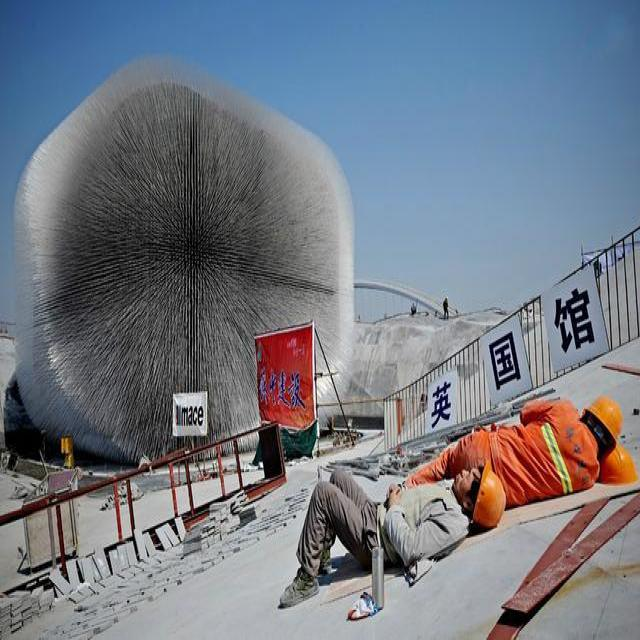Reflective-Jacket: (444, 400, 597, 506)
Safety-Helmet: (466, 460, 510, 536), (583, 390, 627, 452), (604, 440, 639, 493)
